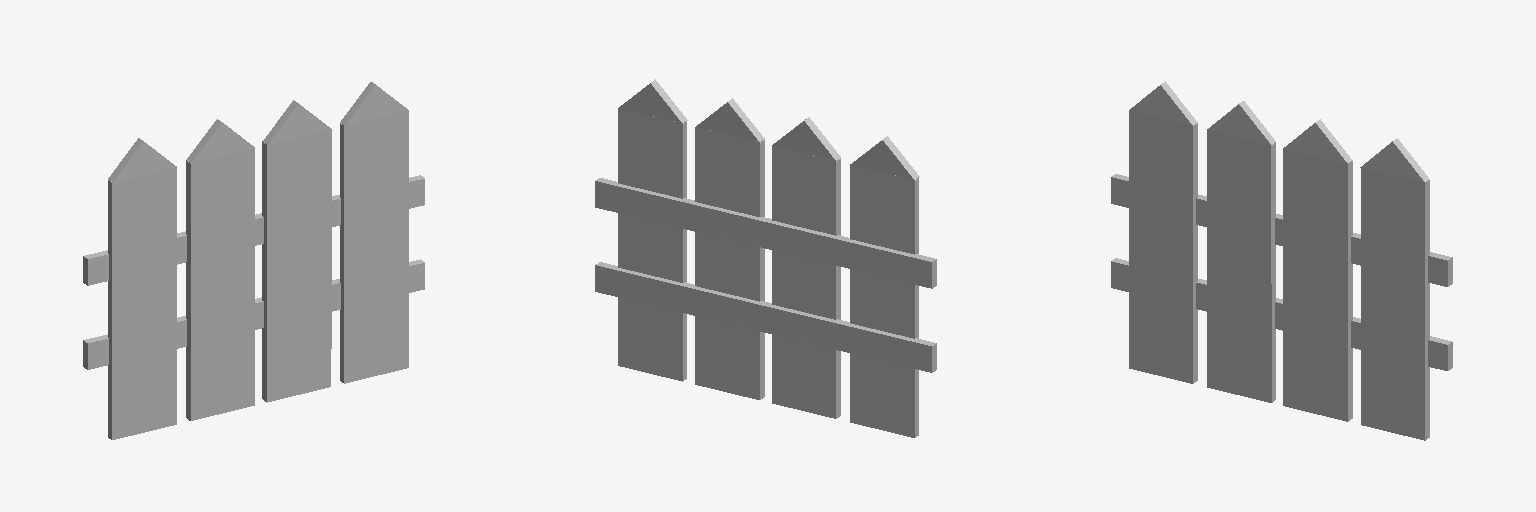
File: fence.obj
The picture shows the model from 3 angles: view 1: azimuth 30°, elevation 25°; view 2: azimuth 150°, elevation 25°; view 3: azimuth 330°, elevation 25°; orthographic projection.
Visible parts, largest first — view 1: polySurface5; view 2: polySurface5; view 3: polySurface5.
Boxes of the visible parts, x1=… form: polySurface5: x1=83, y1=82, x2=424, y2=439; polySurface5: x1=595, y1=79, x2=936, y2=437; polySurface5: x1=1111, y1=81, x2=1452, y2=440.
Size of the model in its own units: 5.07 by 4.19 by 0.2232.